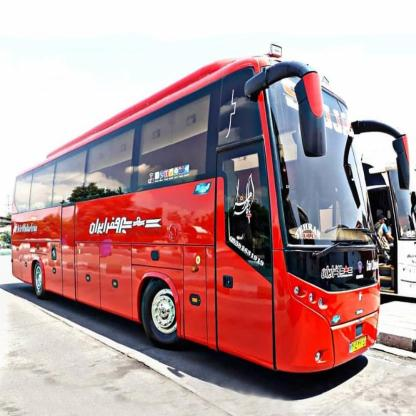Bus: (11, 54, 383, 381), (368, 153, 416, 310)
